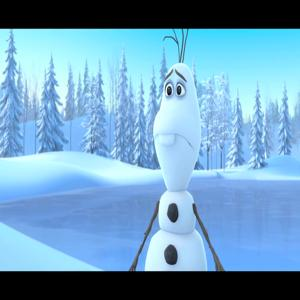olaf: (139, 30, 219, 268)
